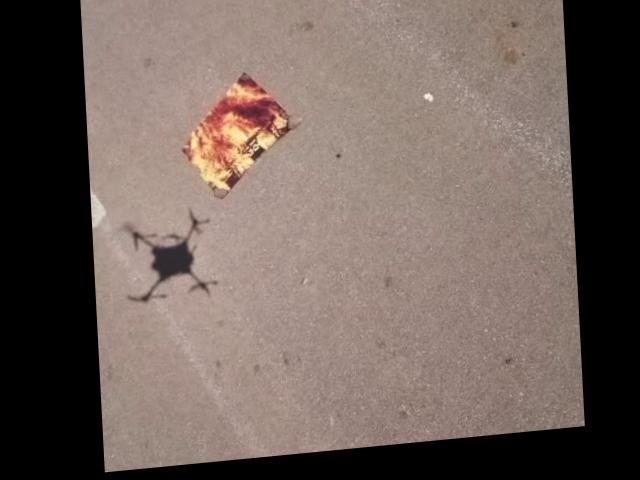fire-poster: (175, 71, 303, 207)
